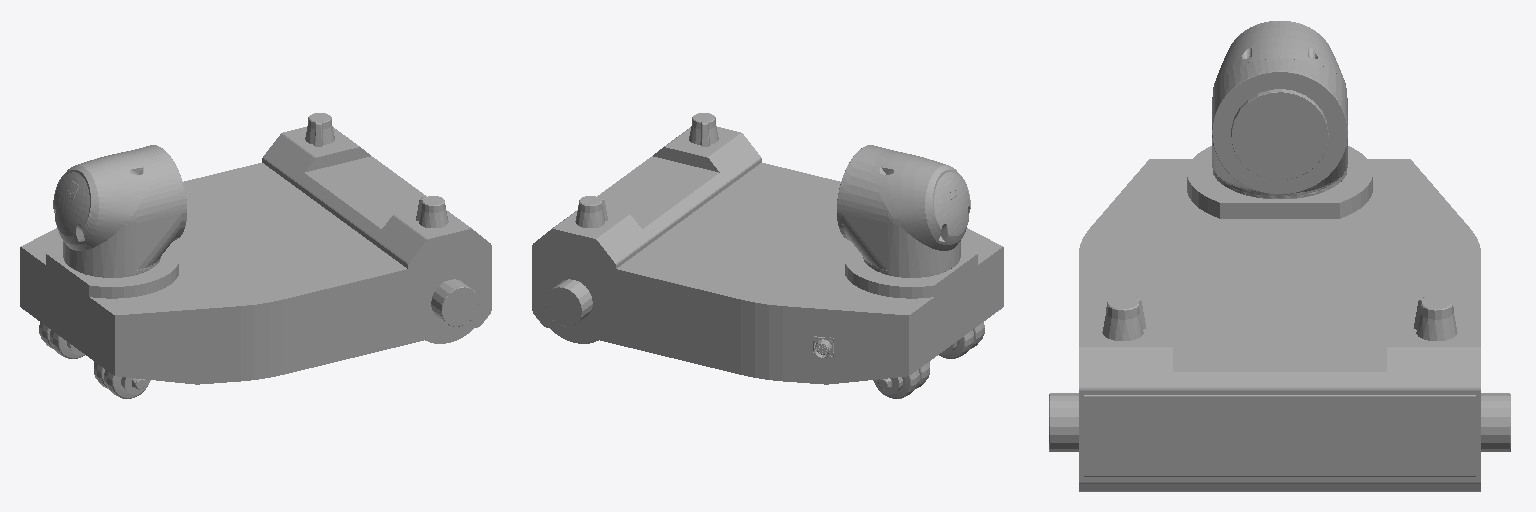
URDF robot description (ur3e_robot):
<?xml version="1.0" ?>
<!-- =================================================================================== -->
<!-- |    This document was autogenerated by xacro from ur3e_description.xacro                     | -->
<!-- |    EDITING THIS FILE BY HAND IS NOT RECOMMENDED                                 | -->
<!-- =================================================================================== -->
<robot name="ur3e_robot">
  <!--
    Base UR robot series xacro macro.

    NOTE: this is NOT a URDF. It cannot directly be loaded by consumers
    expecting a flattened '.urdf' file. See the top-level '.xacro' for that
    (but note: that .xacro must still be processed by the xacro command).

    For use in '.launch' files: use one of the 'load_urX.launch' convenience
    launch files.

    This file models the base kinematic chain of a UR robot, which then gets
    parameterised by various configuration files to convert it into a UR3(e),
    UR5(e), UR10(e) or UR16e.

    NOTE: the default kinematic parameters (ie: link lengths, frame locations,
    offets, etc) do not correspond to any particular robot. They are defaults
    only. There WILL be non-zero offsets between the Forward Kinematics results
    in TF (ie: robot_state_publisher) and the values reported by the Teach
    Pendant.

    For accurate (and robot-specific) transforms, the 'kinematics_parameters_file'
    parameter MUST point to a .yaml file containing the appropriate values for
    the targetted robot.

    If using the UniversalRobots/Universal_Robots_ROS_Driver, follow the steps
    described in the readme of that repository to extract the kinematic
    calibration from the controller and generate the required .yaml file.

    Main author of the migration to yaml configs: [author].

    Contributors to previous versions (in no particular order):

     - [author]
     - [author]
     - [author]
     - [author]
     - [author]
     - [author]
     - [author]
     - [author]
     - [author]
     - [author]
     - [author]
     - [author]
     - [author]
     - [author]
     - [author]
     - [author]
     - [author]
  -->
  <!--
    NOTE: the macro defined in this file is NOT part of the public API of this
          package. Users CANNOT rely on this file being available, or stored in
          this location. Nor can they rely on the existence of the macro.
  -->
  <transmission name="shoulder_pan_trans">
    <type>transmission_interface/SimpleTransmission</type>
    <joint name="shoulder_pan_joint">
      <hardwareInterface>hardware_interface/PositionJointInterface</hardwareInterface>
    </joint>
    <actuator name="shoulder_pan_motor">
      <mechanicalReduction>1</mechanicalReduction>
    </actuator>
  </transmission>
  <transmission name="shoulder_lift_trans">
    <type>transmission_interface/SimpleTransmission</type>
    <joint name="shoulder_lift_joint">
      <hardwareInterface>hardware_interface/PositionJointInterface</hardwareInterface>
    </joint>
    <actuator name="shoulder_lift_motor">
      <mechanicalReduction>1</mechanicalReduction>
    </actuator>
  </transmission>
  <transmission name="elbow_trans">
    <type>transmission_interface/SimpleTransmission</type>
    <joint name="elbow_joint">
      <hardwareInterface>hardware_interface/PositionJointInterface</hardwareInterface>
    </joint>
    <actuator name="elbow_motor">
      <mechanicalReduction>1</mechanicalReduction>
    </actuator>
  </transmission>
  <transmission name="wrist_1_trans">
    <type>transmission_interface/SimpleTransmission</type>
    <joint name="wrist_1_joint">
      <hardwareInterface>hardware_interface/PositionJointInterface</hardwareInterface>
    </joint>
    <actuator name="wrist_1_motor">
      <mechanicalReduction>1</mechanicalReduction>
    </actuator>
  </transmission>
  <transmission name="wrist_2_trans">
    <type>transmission_interface/SimpleTransmission</type>
    <joint name="wrist_2_joint">
      <hardwareInterface>hardware_interface/PositionJointInterface</hardwareInterface>
    </joint>
    <actuator name="wrist_2_motor">
      <mechanicalReduction>1</mechanicalReduction>
    </actuator>
  </transmission>
  <transmission name="wrist_3_trans">
    <type>transmission_interface/SimpleTransmission</type>
    <joint name="wrist_3_joint">
      <hardwareInterface>hardware_interface/PositionJointInterface</hardwareInterface>
    </joint>
    <actuator name="wrist_3_motor">
      <mechanicalReduction>1</mechanicalReduction>
    </actuator>
  </transmission>
  <!-- links: main serial chain -->
  <link name="base_link"/>
  <link name="base_link_inertia">
    <visual>
      <origin rpy="0 0 3.141592653589793" xyz="0 0 0"/>
      <geometry>
        <mesh filename="package://ur3e_description/meshes/visual/base.dae"/>
      </geometry>
      <material name="LightGrey">
        <color rgba="0.7 0.7 0.7 1.0"/>
      </material>
    </visual>
    <collision>
      <origin rpy="0 0 3.141592653589793" xyz="0 0 0"/>
      <geometry>
        <mesh filename="package://ur3e_description/meshes/collision/base.stl"/>
      </geometry>
    </collision>
    <inertial>
      <mass value="2.0"/>
      <origin rpy="0 0 0" xyz="0 0 0"/>
      <inertia ixx="0.0030531654454" ixy="0.0" ixz="0.0" iyy="0.0030531654454" iyz="0.0" izz="0.005625"/>
    </inertial>
  </link>
  <link name="shoulder_link">
    <visual>
      <origin rpy="0 0 3.141592653589793" xyz="0 0 0"/>
      <geometry>
        <mesh filename="package://ur3e_description/meshes/visual/shoulder.dae"/>
      </geometry>
      <material name="LightGrey">
        <color rgba="0.7 0.7 0.7 1.0"/>
      </material>
    </visual>
    <collision>
      <origin rpy="0 0 3.141592653589793" xyz="0 0 0"/>
      <geometry>
        <mesh filename="package://ur3e_description/meshes/collision/shoulder.stl"/>
      </geometry>
    </collision>
    <inertial>
      <mass value="2.0"/>
      <origin rpy="0 0 0" xyz="0 0 0"/>
      <inertia ixx="0.008093163429399999" ixy="0.0" ixz="0.0" iyy="0.008093163429399999" iyz="0.0" izz="0.005625"/>
    </inertial>
  </link>
  <link name="upper_arm_link">
    <visual>
      <origin rpy="1.5707963267948966 0 -1.5707963267948966" xyz="0 0 0.12"/>
      <geometry>
        <mesh filename="package://ur3e_description/meshes/visual/upperarm.dae"/>
      </geometry>
      <material name="LightGrey">
        <color rgba="0.7 0.7 0.7 1.0"/>
      </material>
    </visual>
    <collision>
      <origin rpy="1.5707963267948966 0 -1.5707963267948966" xyz="0 0 0.12"/>
      <geometry>
        <mesh filename="package://ur3e_description/meshes/collision/upperarm.stl"/>
      </geometry>
    </collision>
    <inertial>
      <mass value="3.42"/>
      <origin rpy="0 1.5707963267948966 0" xyz="-0.121825 0.0 0.12"/>
      <inertia ixx="0.021728483221103233" ixy="0.0" ixz="0.0" iyy="0.021728483221103233" iyz="0.0" izz="0.00961875"/>
    </inertial>
  </link>
  <link name="forearm_link">
    <visual>
      <origin rpy="1.5707963267948966 0 -1.5707963267948966" xyz="0 0 0.027"/>
      <geometry>
        <mesh filename="package://ur3e_description/meshes/visual/forearm.dae"/>
      </geometry>
      <material name="LightGrey">
        <color rgba="0.7 0.7 0.7 1.0"/>
      </material>
    </visual>
    <collision>
      <origin rpy="1.5707963267948966 0 -1.5707963267948966" xyz="0 0 0.027"/>
      <geometry>
        <mesh filename="package://ur3e_description/meshes/collision/forearm.stl"/>
      </geometry>
    </collision>
    <inertial>
      <mass value="1.26"/>
      <origin rpy="0 1.5707963267948966 0" xyz="-0.1066 0.0 0.027"/>
      <inertia ixx="0.0065445675821719194" ixy="0.0" ixz="0.0" iyy="0.0065445675821719194" iyz="0.0" izz="0.00354375"/>
    </inertial>
  </link>
  <link name="wrist_1_link">
    <visual>
      <!-- TODO: Move this to a parameter -->
      <origin rpy="1.5707963267948966 0 0" xyz="0 0 -0.104"/>
      <geometry>
        <mesh filename="package://ur3e_description/meshes/visual/wrist1.dae"/>
      </geometry>
      <material name="LightGrey">
        <color rgba="0.7 0.7 0.7 1.0"/>
      </material>
    </visual>
    <collision>
      <origin rpy="1.5707963267948966 0 0" xyz="0 0 -0.104"/>
      <geometry>
        <mesh filename="package://ur3e_description/meshes/collision/wrist1.stl"/>
      </geometry>
    </collision>
    <inertial>
      <mass value="0.8"/>
      <origin rpy="0 0 0" xyz="0 0 0"/>
      <inertia ixx="0.002084999166" ixy="0.0" ixz="0.0" iyy="0.002084999166" iyz="0.0" izz="0.00225"/>
    </inertial>
  </link>
  <link name="wrist_2_link">
    <visual>
      <origin rpy="0 0 0" xyz="0 0 -0.08535"/>
      <geometry>
        <mesh filename="package://ur3e_description/meshes/visual/wrist2.dae"/>
      </geometry>
      <material name="LightGrey">
        <color rgba="0.7 0.7 0.7 1.0"/>
      </material>
    </visual>
    <collision>
      <origin rpy="0 0 0" xyz="0 0 -0.08535"/>
      <geometry>
        <mesh filename="package://ur3e_description/meshes/collision/wrist2.stl"/>
      </geometry>
    </collision>
    <inertial>
      <mass value="0.8"/>
      <origin rpy="0 0 0" xyz="0 0 0"/>
      <inertia ixx="0.002084999166" ixy="0.0" ixz="0.0" iyy="0.002084999166" iyz="0.0" izz="0.00225"/>
    </inertial>
  </link>
  <link name="wrist_3_link">
    <visual>
      <origin rpy="1.5707963267948966 0 0" xyz="0 0 -0.0921"/>
      <geometry>
        <mesh filename="package://ur3e_description/meshes/visual/wrist3.dae"/>
      </geometry>
      <material name="LightGrey">
        <color rgba="0.7 0.7 0.7 1.0"/>
      </material>
    </visual>
    <collision>
      <origin rpy="1.5707963267948966 0 0" xyz="0 0 -0.0921"/>
      <geometry>
        <mesh filename="package://ur3e_description/meshes/collision/wrist3.stl"/>
      </geometry>
    </collision>
    <inertial>
      <mass value="0.35"/>
      <origin rpy="0 0 0" xyz="0.0 0.0 -0.02"/>
      <inertia ixx="0.00013626661215999998" ixy="0.0" ixz="0.0" iyy="0.00013626661215999998" iyz="0.0" izz="0.0001792"/>
    </inertial>
  </link>
  <!-- joints: main serial chain -->
  <joint name="base_link-base_link_inertia" type="fixed">
    <parent link="base_link"/>
    <child link="base_link_inertia"/>
    <!-- 'base_link' is REP-103 aligned (so X+ forward), while the internal
           frames of the robot/controller have X+ pointing backwards.
           Use the joint between 'base_link' and 'base_link_inertia' (a dummy
           link/frame) to introduce the necessary rotation over Z (of pi rad).
      -->
    <origin rpy="0 0 3.141592653589793" xyz="0 0 0"/>
  </joint>
  <joint name="shoulder_pan_joint" type="revolute">
    <parent link="base_link_inertia"/>
    <child link="shoulder_link"/>
    <origin rpy="0 0 0" xyz="0 0 0.15185"/>
    <axis xyz="0 0 1"/>
    <limit effort="56.0" lower="-6.283185307179586" upper="6.283185307179586" velocity="3.141592653589793"/>
    <dynamics damping="0" friction="0"/>
  </joint>
  <joint name="shoulder_lift_joint" type="revolute">
    <parent link="shoulder_link"/>
    <child link="upper_arm_link"/>
    <origin rpy="1.570796327 0 0" xyz="0 0 0"/>
    <axis xyz="0 0 1"/>
    <limit effort="56.0" lower="-6.283185307179586" upper="6.283185307179586" velocity="3.141592653589793"/>
    <dynamics damping="0" friction="0"/>
  </joint>
  <joint name="elbow_joint" type="revolute">
    <parent link="upper_arm_link"/>
    <child link="forearm_link"/>
    <origin rpy="0 0 0" xyz="-0.24355 0 0"/>
    <axis xyz="0 0 1"/>
    <limit effort="28.0" lower="-3.141592653589793" upper="3.141592653589793" velocity="3.141592653589793"/>
    <dynamics damping="0" friction="0"/>
  </joint>
  <joint name="wrist_1_joint" type="revolute">
    <parent link="forearm_link"/>
    <child link="wrist_1_link"/>
    <origin rpy="0 0 0" xyz="-0.2132 0 0.13105"/>
    <axis xyz="0 0 1"/>
    <limit effort="12.0" lower="-6.283185307179586" upper="6.283185307179586" velocity="6.283185307179586"/>
    <dynamics damping="0" friction="0"/>
  </joint>
  <joint name="wrist_2_joint" type="revolute">
    <parent link="wrist_1_link"/>
    <child link="wrist_2_link"/>
    <origin rpy="1.570796327 0 0" xyz="0 -0.08535 -1.750557762378351e-11"/>
    <axis xyz="0 0 1"/>
    <limit effort="12.0" lower="-6.283185307179586" upper="6.283185307179586" velocity="6.283185307179586"/>
    <dynamics damping="0" friction="0"/>
  </joint>
  <joint name="wrist_3_joint" type="revolute">
    <parent link="wrist_2_link"/>
    <child link="wrist_3_link"/>
    <origin rpy="1.570796326589793 3.141592653589793 3.141592653589793" xyz="0 0.0921 -1.8890025766262e-11"/>
    <axis xyz="0 0 1"/>
    <limit effort="12.0" lower="-6.283185307179586" upper="6.283185307179586" velocity="6.283185307179586"/>
    <dynamics damping="0" friction="0"/>
  </joint>
  <!-- ROS-Industrial 'base' frame: base_link to UR 'Base' Coordinates transform -->
  <link name="base"/>
  <joint name="base_link-base_fixed_joint" type="fixed">
    <!-- Note the rotation over Z of pi radians: as base_link is REP-103
           aligned (ie: has X+ forward, Y+ left and Z+ up), this is needed
           to correctly align 'base' with the 'Base' coordinate system of
           the UR controller.
      -->
    <origin rpy="0 0 3.141592653589793" xyz="0 0 0"/>
    <parent link="base_link"/>
    <child link="base"/>
  </joint>
  <!-- ROS-Industrial 'flange' frame: attachment point for EEF models -->
  <link name="flange"/>
  <joint name="wrist_3-flange" type="fixed">
    <parent link="wrist_3_link"/>
    <child link="flange"/>
    <origin rpy="0 -1.5707963267948966 -1.5707963267948966" xyz="0 0 0"/>
  </joint>
  <!-- ROS-Industrial 'tool0' frame: all-zeros tool frame -->
  <link name="tool0"/>
  <joint name="flange-tool0" type="fixed">
    <!-- default toolframe: X+ left, Y+ up, Z+ front -->
    <origin rpy="1.5707963267948966 0 1.5707963267948966" xyz="0 0 0"/>
    <parent link="flange"/>
    <child link="tool0"/>
  </joint>
</robot>

--- Facts derived from the render (not from the file) ---
The picture shows the robot from 3 angles, left to right: view 1: azimuth 30°, elevation 25°; view 2: azimuth 150°, elevation 25°; view 3: azimuth 270°, elevation 25°; orthographic projection.
Robot: ur3e_robot — 11 links, 10 joints (6 revolute, 4 fixed); root link base_link; default pose: all joints at 0.
Links seen in each view (by area): view 1: base_link_inertia; view 2: base_link_inertia; view 3: base_link_inertia.
Boxes of the visible links, x1,y1,x2,y2 form: base_link_inertia: (20,113,491,398); base_link_inertia: (532,113,1003,398); base_link_inertia: (1049,21,1510,491).
Size in the robot's own frame: 0.6388 by 0.519 by 0.3579 metres.
Meshes: 7 distinct files referenced, 1 mesh visuals loaded (1 Collada DAE); not drawn: 6 (reference not matched to a file when rendering).